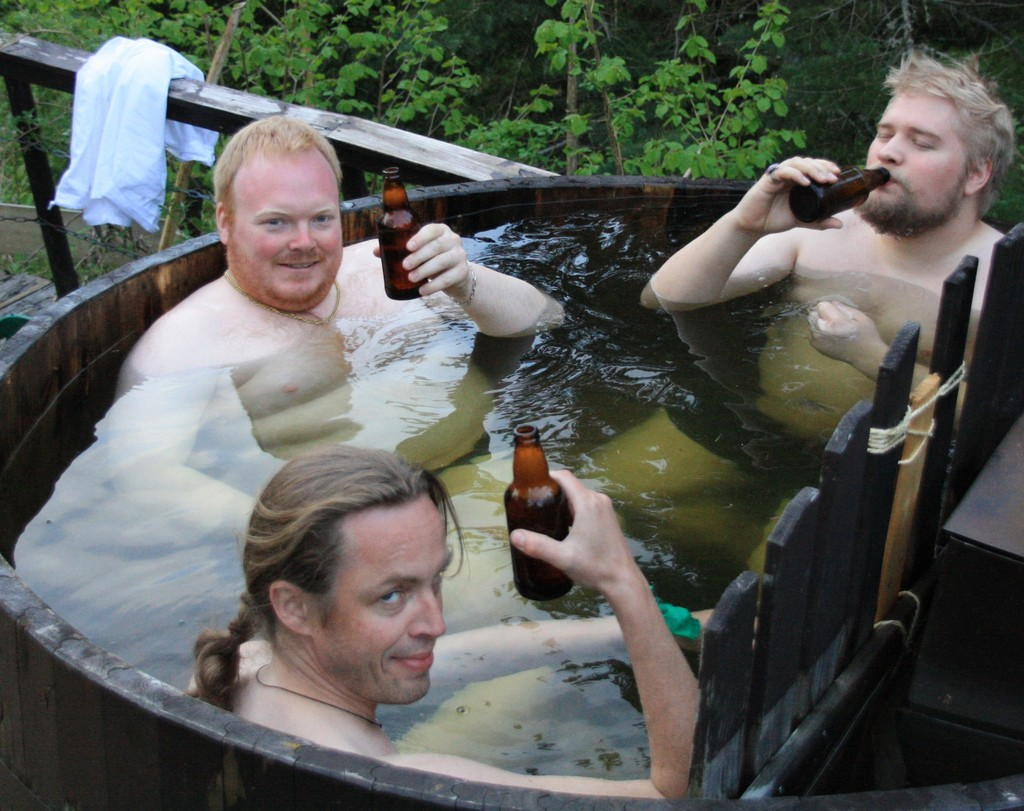face: (316, 498, 451, 702)
